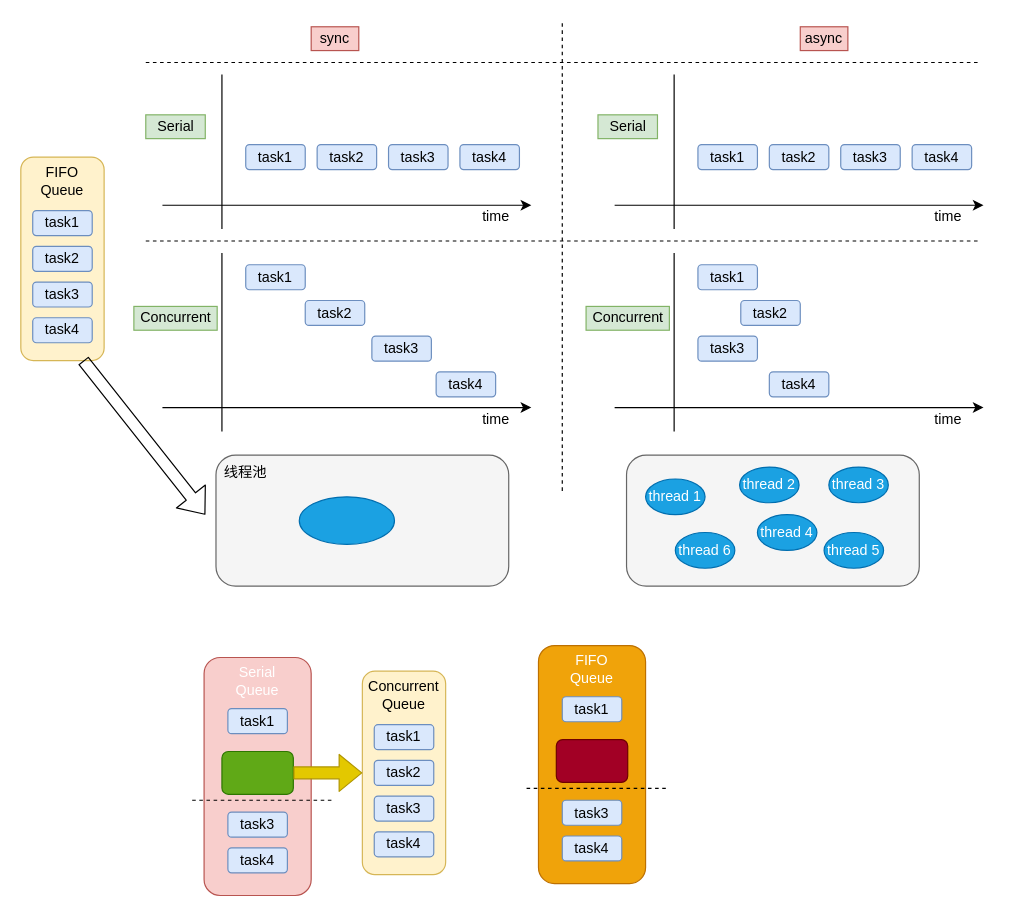
This 1014x916 diagram has some shape labels left out. The shapes that lost their labels are listed below. From the top down, each one's centre as x and y in pixels, then its label:
At point (346, 520): "开辟一个 thread".
At point (257, 772): "apply".
At point (591, 760): "barrier task".
